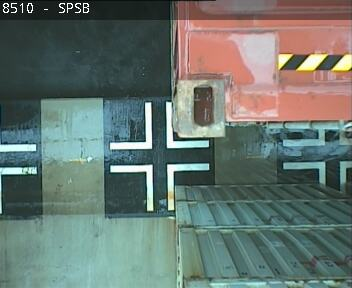groundmarker_1: (109, 101, 209, 149), (110, 163, 209, 211)
